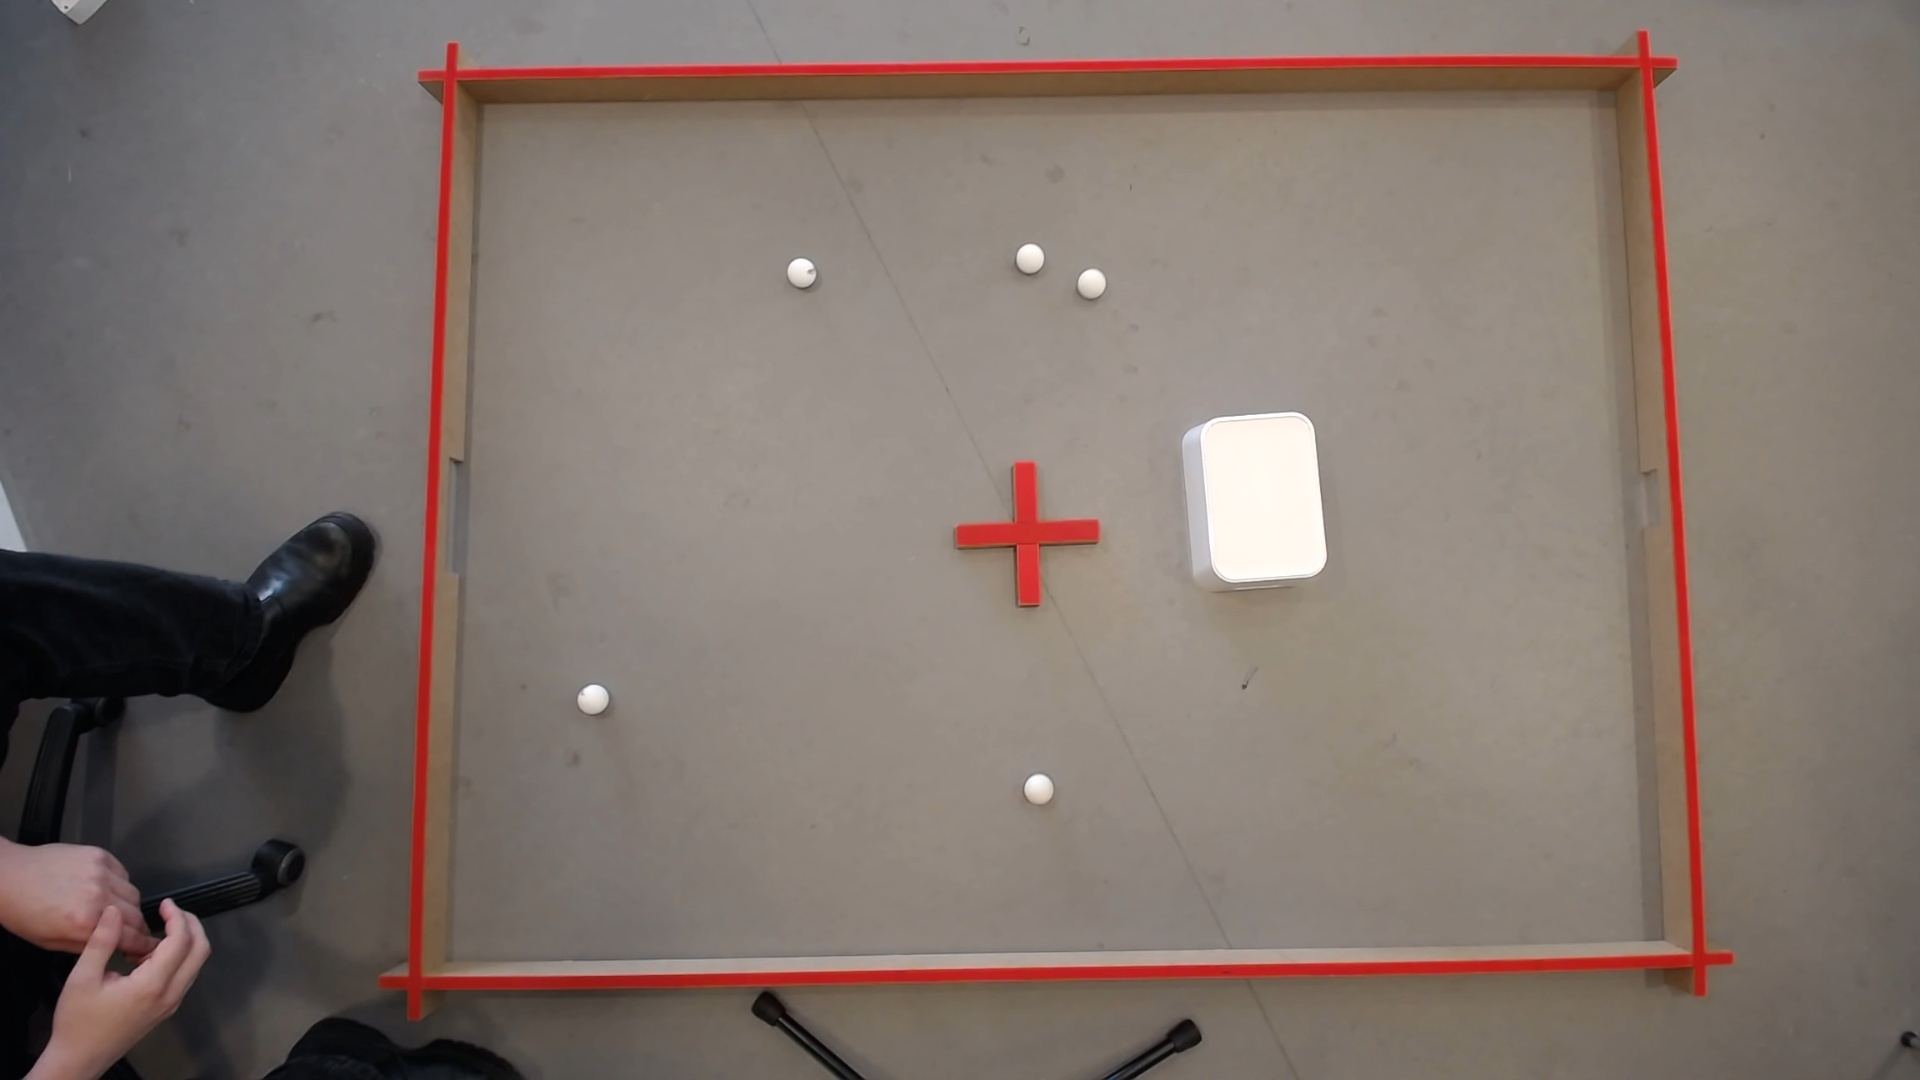balls: (1182, 406, 1329, 587), (1076, 264, 1109, 294), (576, 679, 608, 709), (1022, 769, 1052, 799), (787, 257, 814, 280), (1017, 244, 1044, 265)
car: (152, 935, 173, 961)
